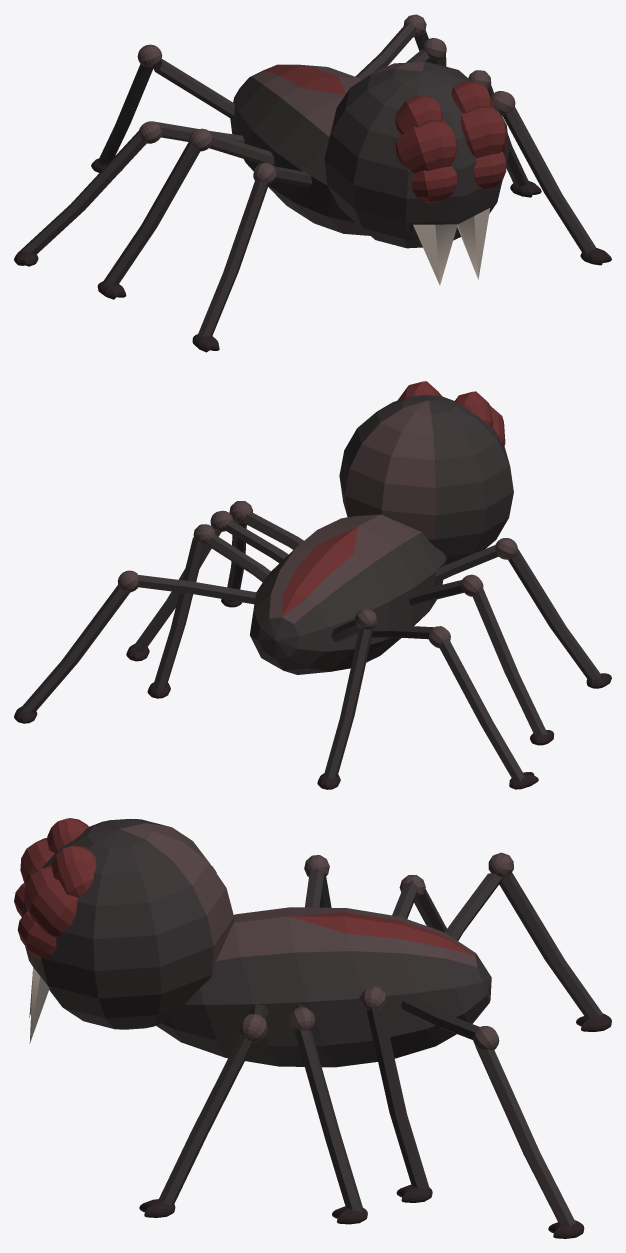
File: Enemy03.fbx
3 renders of one model, top to bottom at view 1: azimuth 30°, elevation 25°; view 2: azimuth 150°, elevation 25°; view 3: azimuth 270°, elevation 25°, orthographic. The views are drawn at different scales.
Parts seen in each view (by area): view 1: EnemySpider; view 2: EnemySpider; view 3: EnemySpider.
Part boxes in pixels (x1,y1,x2,y2): EnemySpider: (14,14,611,352); EnemySpider: (14,381,611,789); EnemySpider: (14,818,611,1238).
Size of the model in its own units: 0.4967 by 0.2415 by 0.455.
